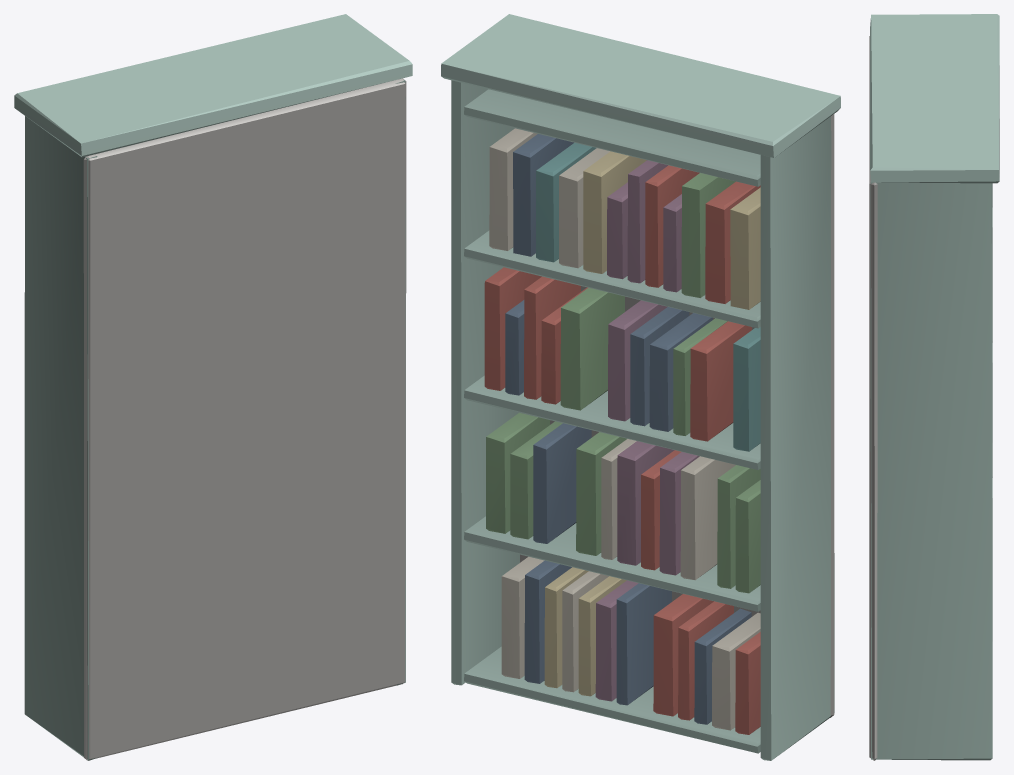
File: furn_bookshelf__mint_low.glb
3 views of the same model, side by side, from view 1: azimuth 30°, elevation 25°; view 2: azimuth 150°, elevation 25°; view 3: azimuth 270°, elevation 25° (orthographic). The views are drawn at different scales.
Bounding box in the file's own units: 1.03 × 1.85 × 0.3673.
